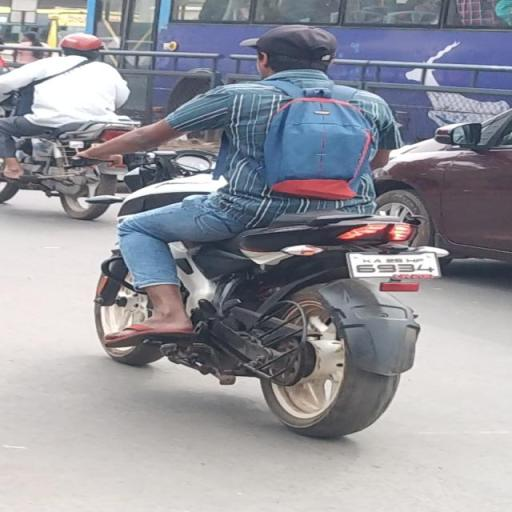bike: (70, 20, 446, 444)
numberplate: (348, 254, 436, 276)
withouthelmet: (260, 25, 332, 72)
